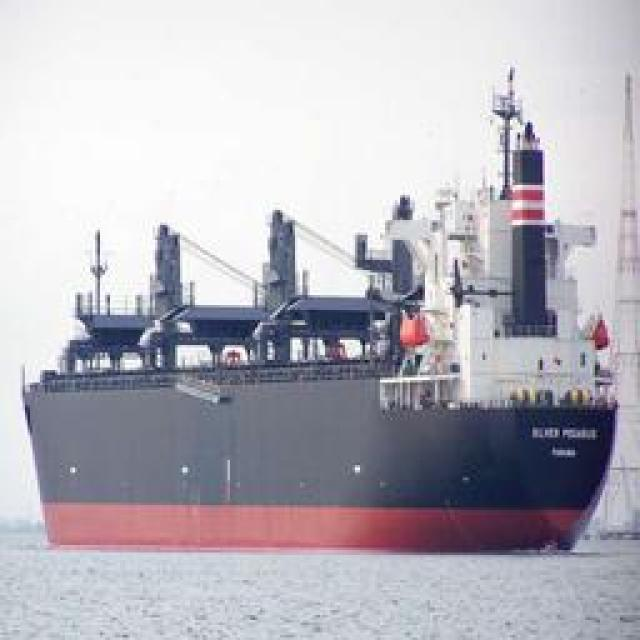CIV_Ship: (28, 124, 622, 558)
